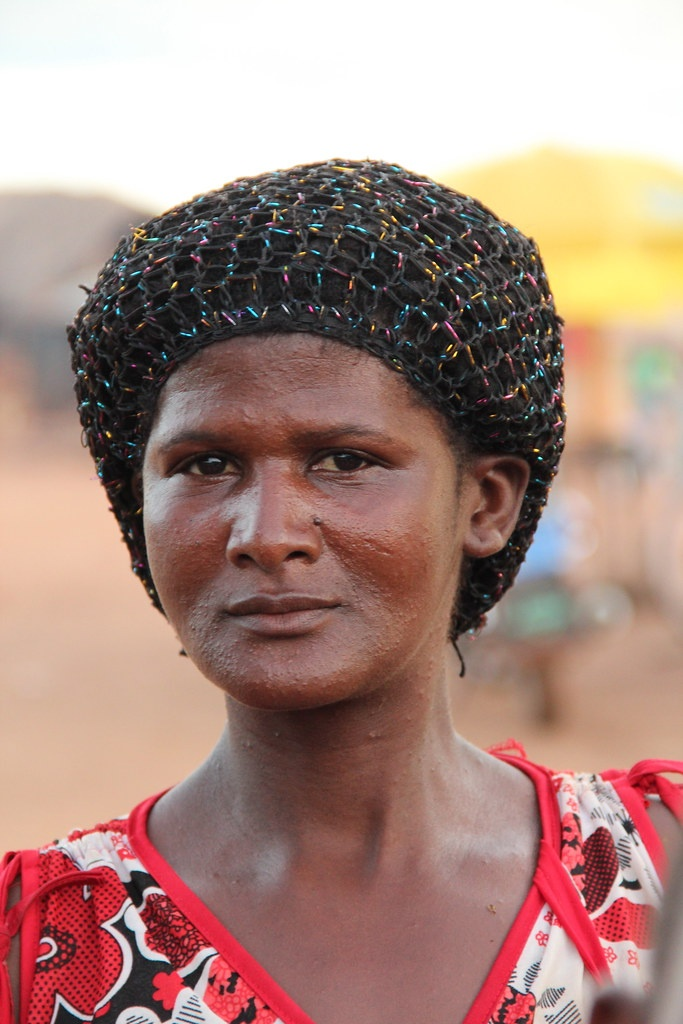without_mask: (103, 319, 507, 697)
